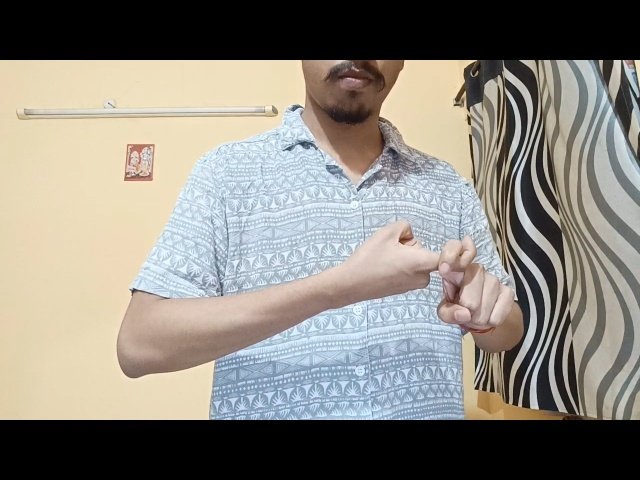Friend: (331, 199, 540, 361)
